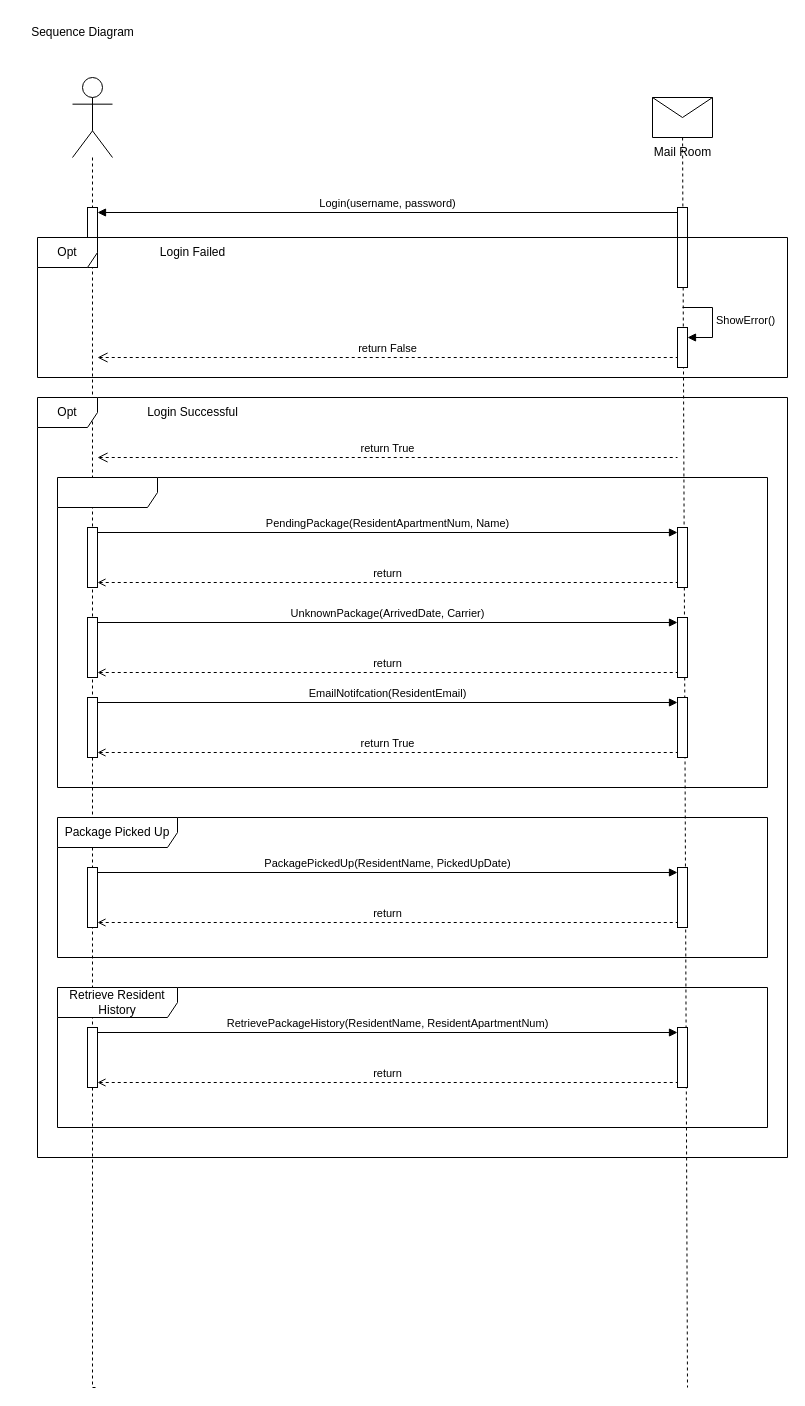
This 805x1406 diagram has some shape labels left out. Here are the shapes that lost their labels. From the top down, the centre of each, then its label:
At (x=92, y=117): "Staff".
At (x=412, y=632): "New Package".
